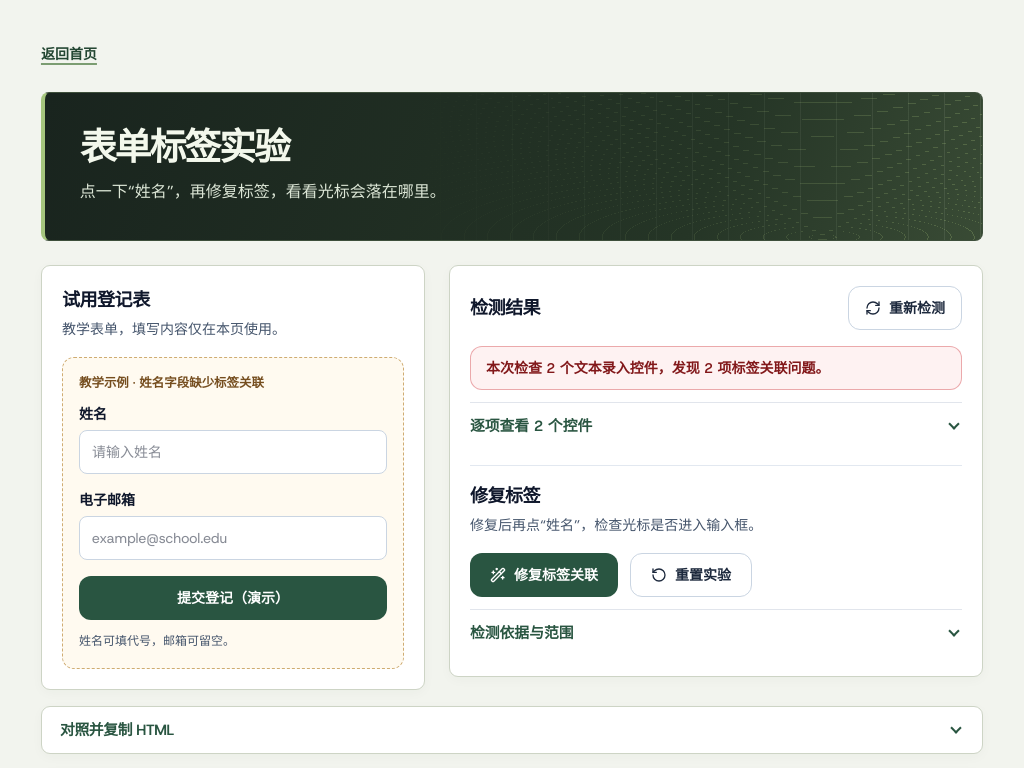
Test: FormLabelLabPage · 一键修复与重新验证（要求 #3 #4 #5 #6 #10） › 修复后重新运行的检测里，对应问题已经消失，只剩邮箱一条通过
Click the button "修复标签关联" at [544, 575], box [470,553,618,597]
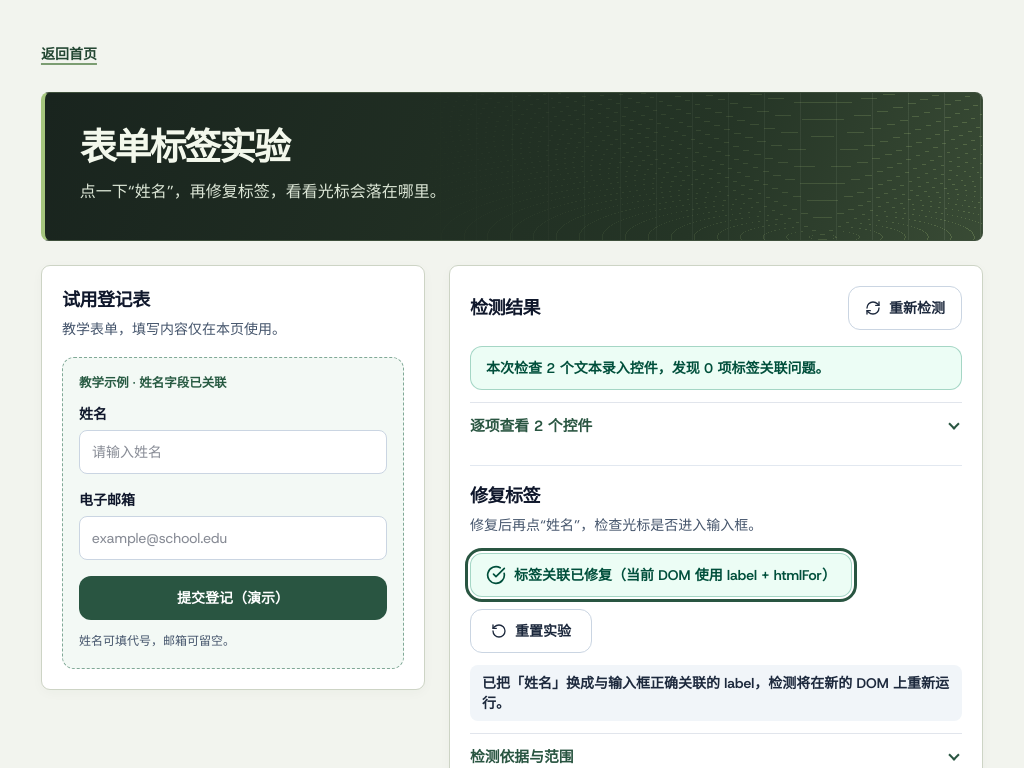
expect the message "已把「姓名」换成与输入框正确关联的 label，检测将在新的 DOM 上重新运行。" is shown: met, box [470,665,962,721]
